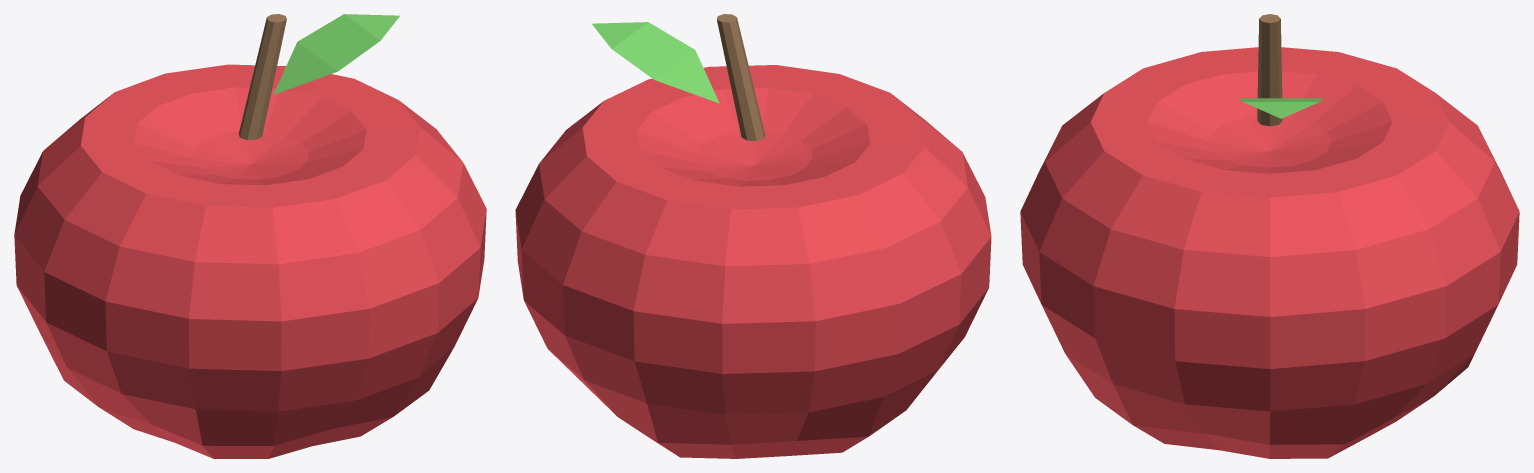
The model's file is InteractiveRedApple.fbx.
The picture shows the model from 3 angles, left to right: view 1: azimuth 30°, elevation 25°; view 2: azimuth 150°, elevation 25°; view 3: azimuth 270°, elevation 25°; orthographic projection. The views are drawn at different scales.
Parts seen in each view (by area): view 1: InteractiveRedApple; view 2: InteractiveRedApple; view 3: InteractiveRedApple.
Boxes of the visible parts, x1,y1,x2,y2 form: InteractiveRedApple: (14, 14, 486, 458); InteractiveRedApple: (515, 14, 991, 458); InteractiveRedApple: (1020, 14, 1519, 458).
Size of the model in its own units: 0.0937 by 0.0837 by 0.0937.
